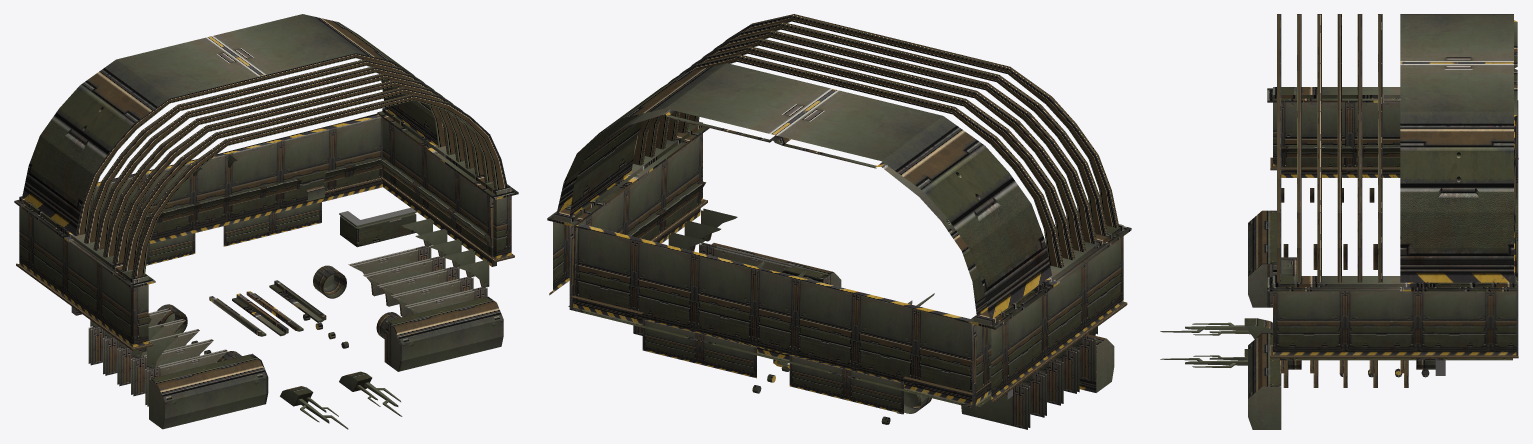
The model's file is wall_tex1.fbx.
3 views of the same model, side by side, from view 1: azimuth 30°, elevation 25°; view 2: azimuth 150°, elevation 25°; view 3: azimuth 270°, elevation 25° (orthographic). The views are drawn at different scales.
Parts seen in each view (by area): view 1: wall_tex1; view 2: wall_tex1; view 3: wall_tex1.
Boxes of the visible parts, box(x1,y1,x2,y2) form: wall_tex1: box(14, 14, 518, 429); wall_tex1: box(547, 14, 1131, 429); wall_tex1: box(1160, 14, 1518, 429).
Bounding box in the file's own units: 777 × 522 × 584.
Materials: 1 (1 with a texture image).
